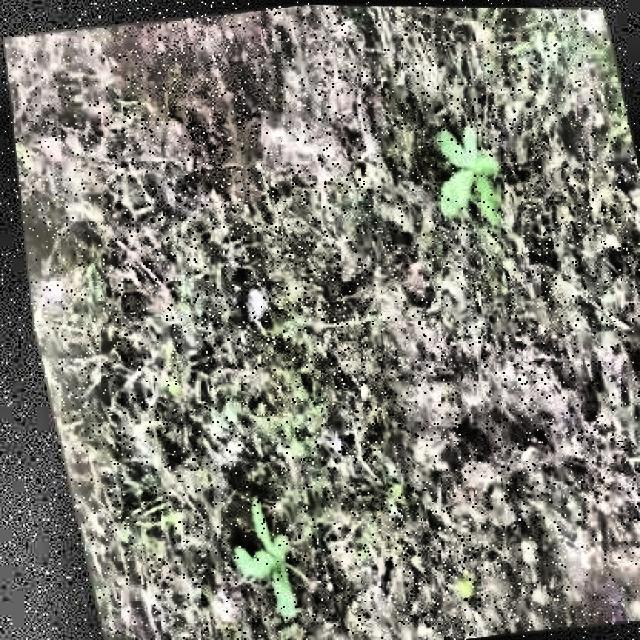Weeds: (206, 492, 292, 622), (418, 116, 508, 230)
